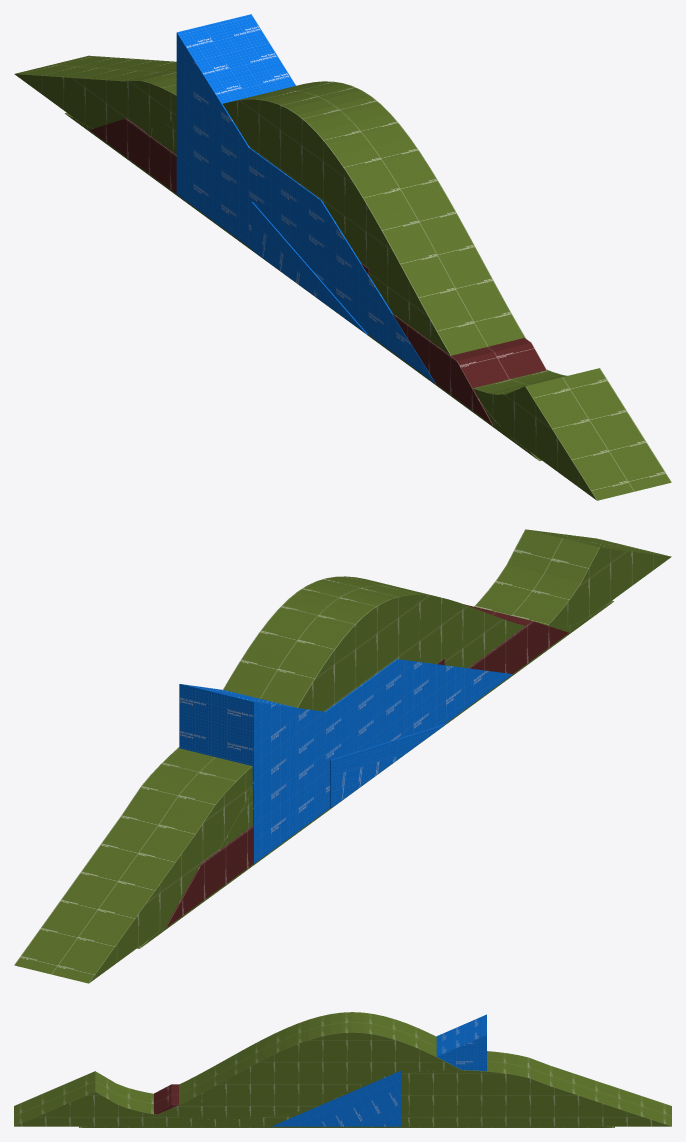
File: Roads.fbx
The picture shows the model from 3 angles, top to bottom: view 1: azimuth 30°, elevation 25°; view 2: azimuth 150°, elevation 25°; view 3: azimuth 270°, elevation 25°; orthographic projection. The views are drawn at different scales.
Parts seen in each view (by area): view 1: Road8, Road3, Road7, Road6, Road1; view 2: Road7, Road3, Road8, Road6, Road1; view 3: Road7, Road8, Road2, Road3, Road6.
Part boxes in pixels (box(x1,y1,x2,y2)): Road8: box(65, 81, 541, 460); Road3: box(176, 14, 435, 383); Road7: box(14, 55, 671, 500); Road6: box(90, 118, 546, 424); Road1: box(251, 202, 367, 334); Road7: box(14, 529, 671, 983); Road3: box(179, 659, 512, 863); Road8: box(137, 576, 613, 948); Road6: box(165, 604, 568, 927); Road1: box(330, 724, 445, 808); Road7: box(14, 1051, 671, 1126); Road8: box(79, 1012, 614, 1127); Road2: box(271, 1071, 400, 1126); Road3: box(436, 1014, 486, 1071); Road6: box(154, 1084, 178, 1114).
Size of the model in its own units: 619 by 1294 by 8100.
